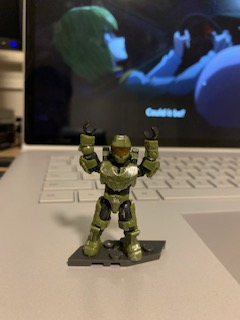chief: (77, 119, 165, 262)
spartan: (75, 117, 163, 260)
up: (76, 121, 162, 193)
